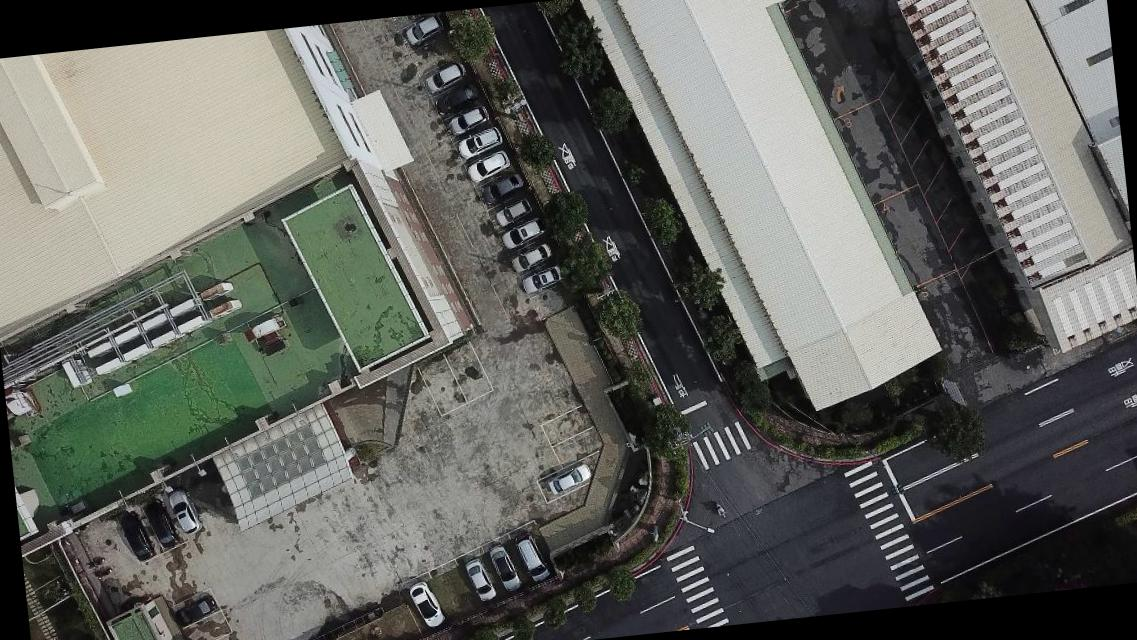vehicle: (119, 510, 155, 565), (515, 530, 550, 584), (166, 487, 203, 538), (408, 579, 444, 629), (455, 124, 506, 159), (432, 83, 483, 117), (422, 58, 468, 94), (488, 542, 521, 592), (145, 500, 178, 550), (171, 594, 219, 628), (545, 463, 594, 496), (465, 148, 512, 182), (498, 218, 546, 251), (402, 12, 445, 46), (466, 556, 497, 603), (447, 102, 492, 134), (511, 242, 555, 274), (480, 173, 524, 205), (493, 197, 535, 229), (520, 264, 564, 294)
